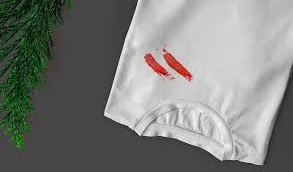lipstick: (142, 53, 167, 82), (160, 53, 189, 77), (175, 70, 194, 82)
